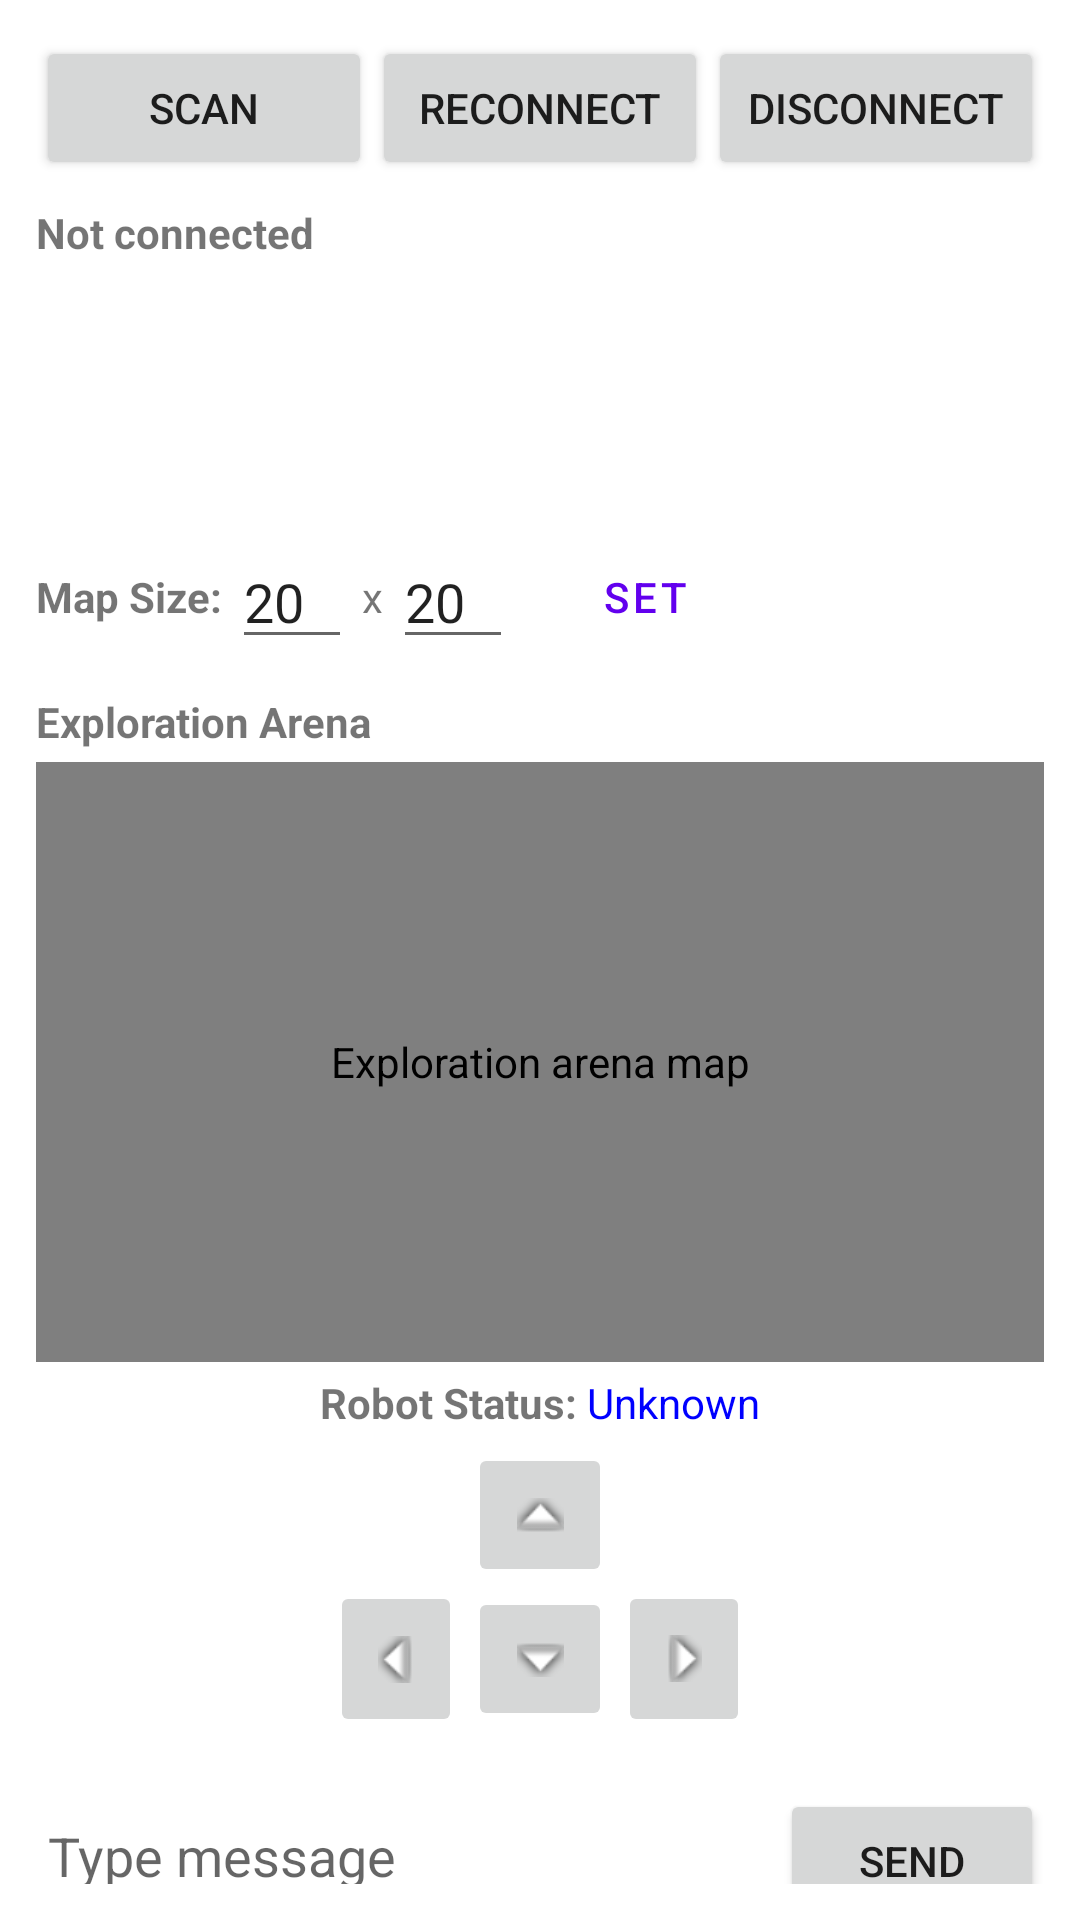

Icon bounding boxes for this 1080px x 1920px phone screenshot, format (x1, y1, x2, y2):
Forward: (480, 1461, 600, 1569)
Reverse: (480, 1605, 600, 1713)
